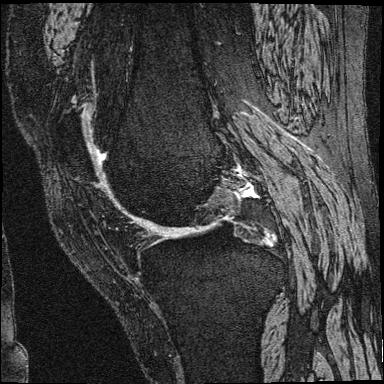SagKneeJointArea: (52, 109, 287, 318)
